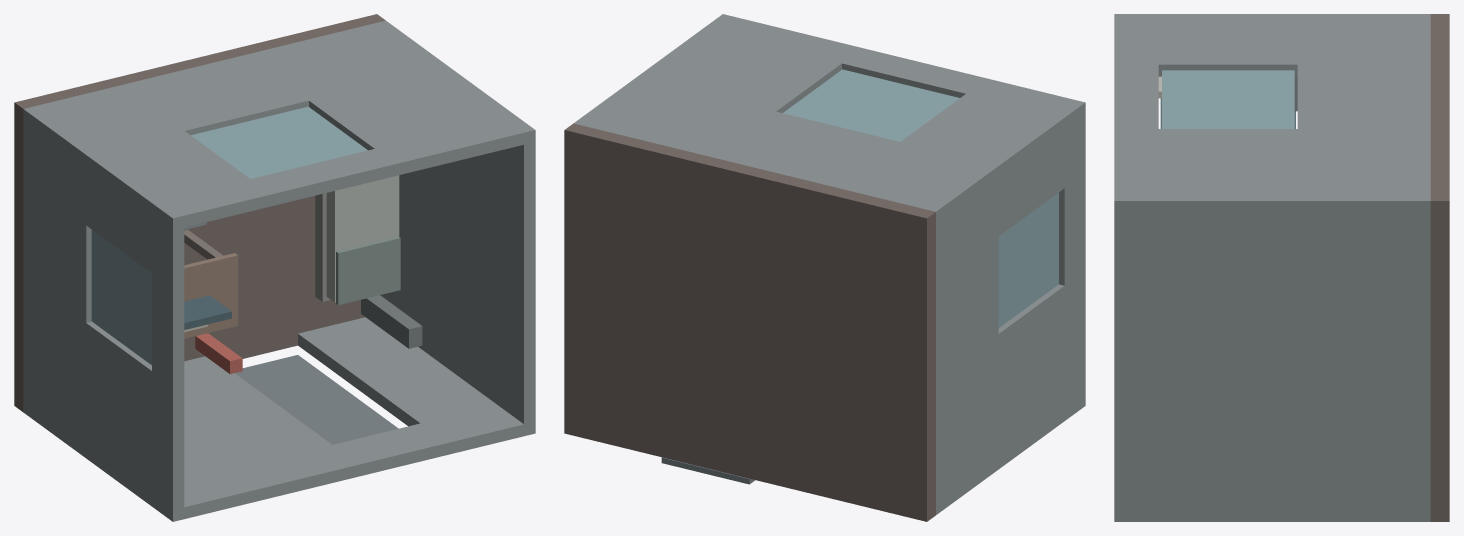
The model's file is guardroom.glb.
3 renders of one model, left to right at view 1: azimuth 30°, elevation 25°; view 2: azimuth 150°, elevation 25°; view 3: azimuth 270°, elevation 25°, orthographic. The views are drawn at different scales.
Parts seen in each view (by area): view 1: SHELL_EAST, SHELL_NORTH_E, SHELL_WEST_S, SHELL_FLOOR, SHELL_SOUTH_W, SHELL_NORTH_W, SHELL_SOUTH_E, SHELL_WEST_N, SHELL_NORTH_SILL, WINDOW_NORTH_GLASS, SHELL_WEST_SILL, ENTRANCE_DOOR (+11 smaller); view 2: SHELL_FLOOR, SHELL_NORTH_E, SHELL_WEST_S, SHELL_NORTH_W, SHELL_WEST_N, SHELL_NORTH_SILL, WINDOW_NORTH_GLASS, SHELL_WEST_SILL, WINDOW_WEST_GLASS, SHELL_NORTH_LINTEL, SHELL_WEST_HEADER, SHELL_SOUTH_W (+2 smaller); view 3: SHELL_EAST, SHELL_NORTH_E, SHELL_NORTH_W, SHELL_FLOOR, SHELL_NORTH_SILL, WINDOW_NORTH_GLASS, SHELL_SOUTH_E, SHELL_NORTH_LINTEL, SHELL_WEST_N.
Boxes of the visible parts, x1,y1,x2,y2 form: SHELL_EAST: [375, 21, 535, 436]; SHELL_NORTH_E: [246, 20, 535, 175]; SHELL_WEST_S: [23, 277, 184, 521]; SHELL_FLOOR: [14, 14, 385, 411]; SHELL_SOUTH_W: [23, 356, 359, 521]; SHELL_NORTH_W: [23, 85, 271, 230]; SHELL_SOUTH_E: [298, 317, 535, 454]; SHELL_WEST_N: [23, 107, 184, 288]; SHELL_NORTH_SILL: [122, 55, 308, 135]; WINDOW_NORTH_GLASS: [191, 106, 367, 178]; SHELL_WEST_SILL: [23, 179, 91, 322]; ENTRANCE_DOOR: [235, 355, 398, 444]; SHELL_FLOOR: [564, 123, 935, 521]; SHELL_NORTH_E: [573, 14, 862, 157]; SHELL_WEST_S: [936, 270, 1085, 514]; SHELL_NORTH_W: [838, 78, 1085, 223]; SHELL_WEST_N: [929, 102, 1085, 281]; SHELL_NORTH_SILL: [713, 111, 899, 187]; WINDOW_NORTH_GLASS: [783, 69, 959, 141]; SHELL_WEST_SILL: [936, 237, 998, 379]; WINDOW_WEST_GLASS: [998, 192, 1058, 327]; SHELL_NORTH_LINTEL: [842, 48, 986, 97]; SHELL_WEST_HEADER: [1059, 173, 1085, 285]; SHELL_SOUTH_W: [936, 394, 1085, 514]; SHELL_EAST: [1114, 195, 1430, 521]; SHELL_NORTH_E: [1114, 129, 1430, 213]; SHELL_NORTH_W: [1114, 14, 1430, 77]; SHELL_FLOOR: [1430, 14, 1449, 521]; SHELL_NORTH_SILL: [1297, 64, 1430, 128]; WINDOW_NORTH_GLASS: [1162, 70, 1294, 128]; SHELL_SOUTH_E: [1114, 509, 1430, 521]; SHELL_NORTH_LINTEL: [1114, 64, 1158, 128]; SHELL_WEST_N: [1114, 14, 1430, 19].
Size of the model in its own units: 3.5 by 2.99 by 2.65.
